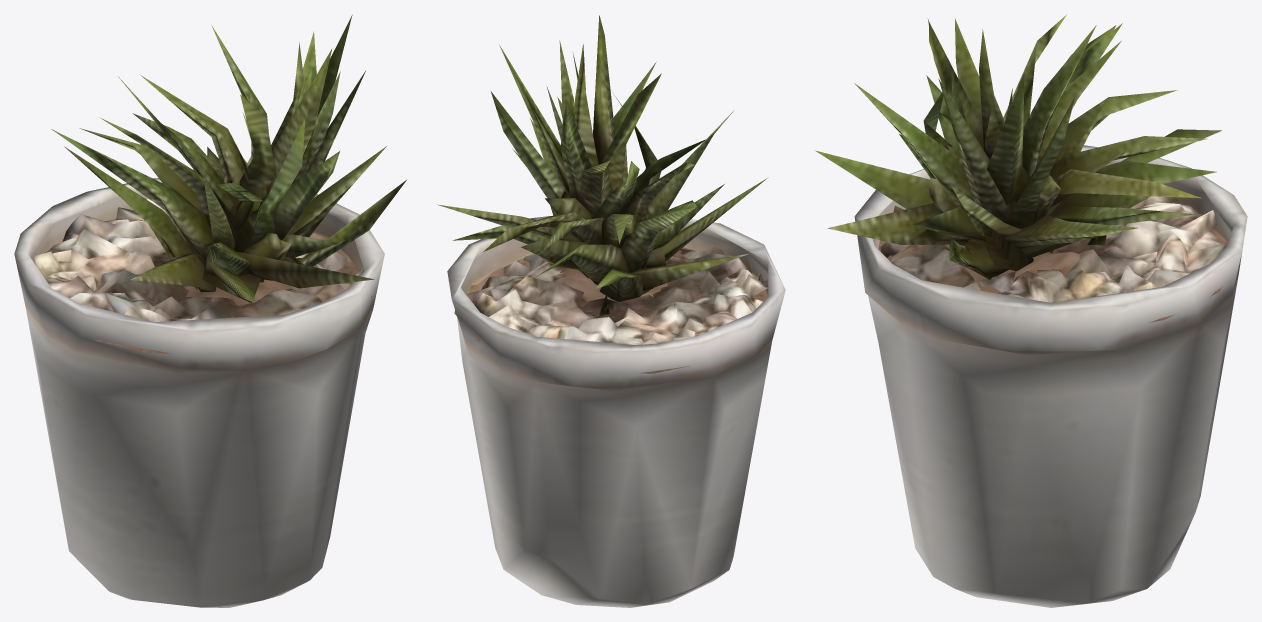
The model's file is potted_plant_04.glb.
The picture shows the model from 3 angles, left to right: view 1: azimuth 30°, elevation 25°; view 2: azimuth 150°, elevation 25°; view 3: azimuth 270°, elevation 25°; orthographic projection. The views are drawn at different scales.
Visible parts, largest first — view 1: potted_plant_04_pot, potted_plant_04_plant, potted_plant_04_ground, potted_plant_04_dirt; view 2: potted_plant_04_pot, potted_plant_04_plant, potted_plant_04_ground, potted_plant_04_dirt; view 3: potted_plant_04_pot, potted_plant_04_plant, potted_plant_04_ground, potted_plant_04_dirt.
Boxes of the visible parts, <box> form: potted_plant_04_pot: <box>14,178,384,607</box>; potted_plant_04_plant: <box>51,15,406,302</box>; potted_plant_04_ground: <box>33,197,359,321</box>; potted_plant_04_dirt: <box>44,219,372,353</box>; potted_plant_04_pot: <box>447,215,785,607</box>; potted_plant_04_plant: <box>437,15,768,316</box>; potted_plant_04_ground: <box>466,247,768,344</box>; potted_plant_04_dirt: <box>454,247,768,373</box>; potted_plant_04_pot: <box>854,145,1247,607</box>; potted_plant_04_plant: <box>815,14,1221,279</box>; potted_plant_04_ground: <box>880,196,1226,302</box>; potted_plant_04_dirt: <box>878,209,1228,323</box>.
Bounding box in the file's own units: 0.1665 × 0.2671 × 0.1825.
Materials: 1 (1 with a texture image).
